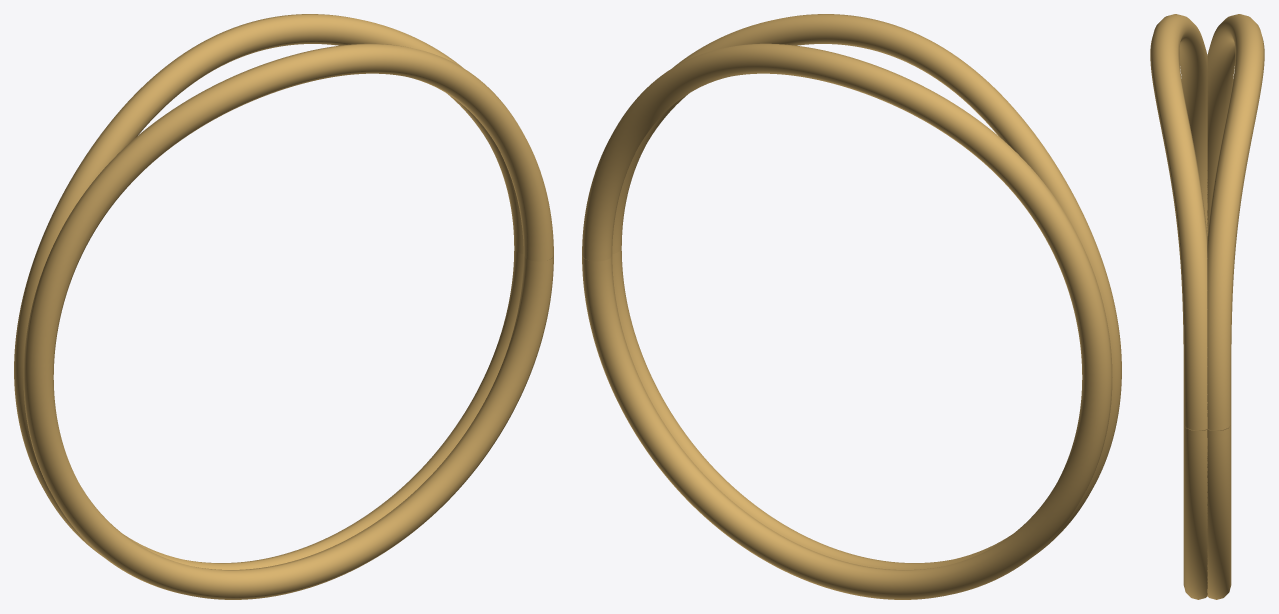
The model's file is band-split-shank.glb.
The picture shows the model from 3 angles, left to right: view 1: azimuth 30°, elevation 25°; view 2: azimuth 150°, elevation 25°; view 3: azimuth 270°, elevation 25°; orthographic projection. The views are drawn at different scales.
Visible parts, largest first — view 1: Band.002, Band.003; view 2: Band.003, Band.002; view 3: Band.002, Band.003.
Part boxes in pixels (x1,y1,x2,y2): Band.002: (23,43,553,599); Band.003: (14,14,523,569); Band.003: (582,43,1112,599); Band.002: (612,14,1121,569); Band.002: (1150,14,1212,599); Band.003: (1202,14,1264,599).
Size of the model in its own units: 19.26 by 19.26 by 3.76.
